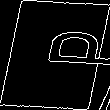P_W: (2, 34, 108, 76)
